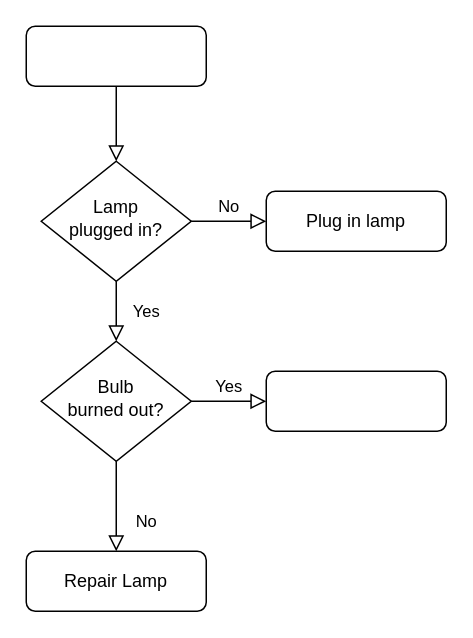
The diagram is 473 pixels wide and 638 high, and some of its shapes have lost their labels. The shapes that lost their labels are listed below. From the top down, each one's centre as x and y in pixels, then its label:
pixel 115 55: Boot
pixel 355 400: Replace Bulb
